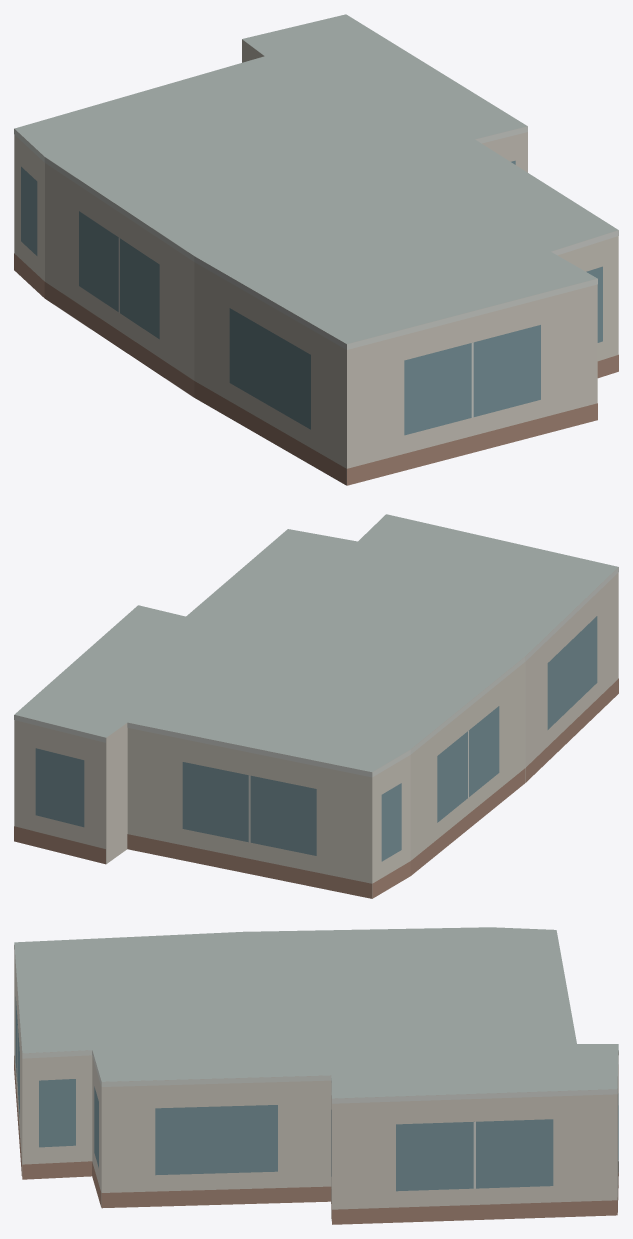
The model's file is survey-upis-32728965.glb.
3 views of the same model, one above another, from view 1: azimuth 30°, elevation 25°; view 2: azimuth 150°, elevation 25°; view 3: azimuth 270°, elevation 25° (orthographic). The views are drawn at different scales.
Parts seen in each view (by area): view 1: survey-upis-32728965.tmp; view 2: survey-upis-32728965.tmp; view 3: survey-upis-32728965.tmp.
Boxes of the visible parts, x1,y1,x2,y2 form: survey-upis-32728965.tmp: [14, 14, 618, 485]; survey-upis-32728965.tmp: [14, 514, 618, 898]; survey-upis-32728965.tmp: [14, 927, 618, 1224].
Size of the model in its own units: 8.9 by 3.05 by 13.26.
